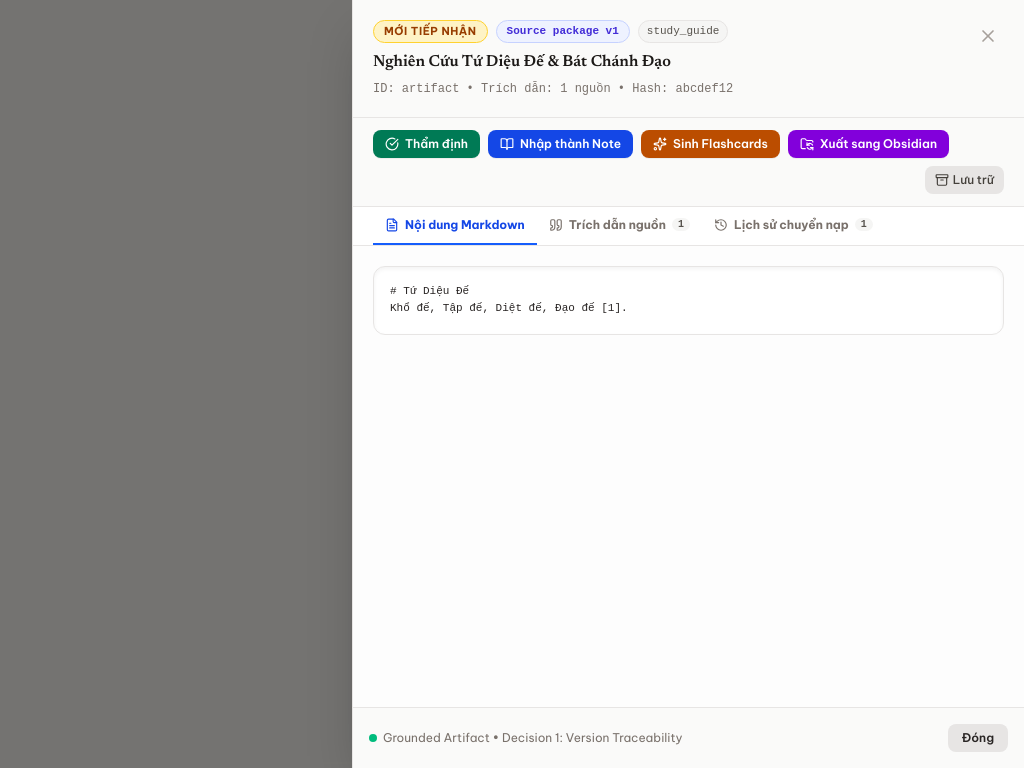
Test case: ArtifactReviewDrawer (Decision 1 & 2 Verification) › renders Decision 2 (Option B) Review Drawer tabs and actions
Expected: the button with test id "btn-validate-artifact" is shown, top-left (373, 130), bottom-right (480, 158)
Expected: the button with test id "btn-open-import-note" is shown, top-left (488, 130), bottom-right (633, 158)
Switch to Citations tab
Click the button "Trích dẫn nguồn 1". click: {"x": 619, "y": 226}
box: top-left (537, 206), bottom-right (702, 244)
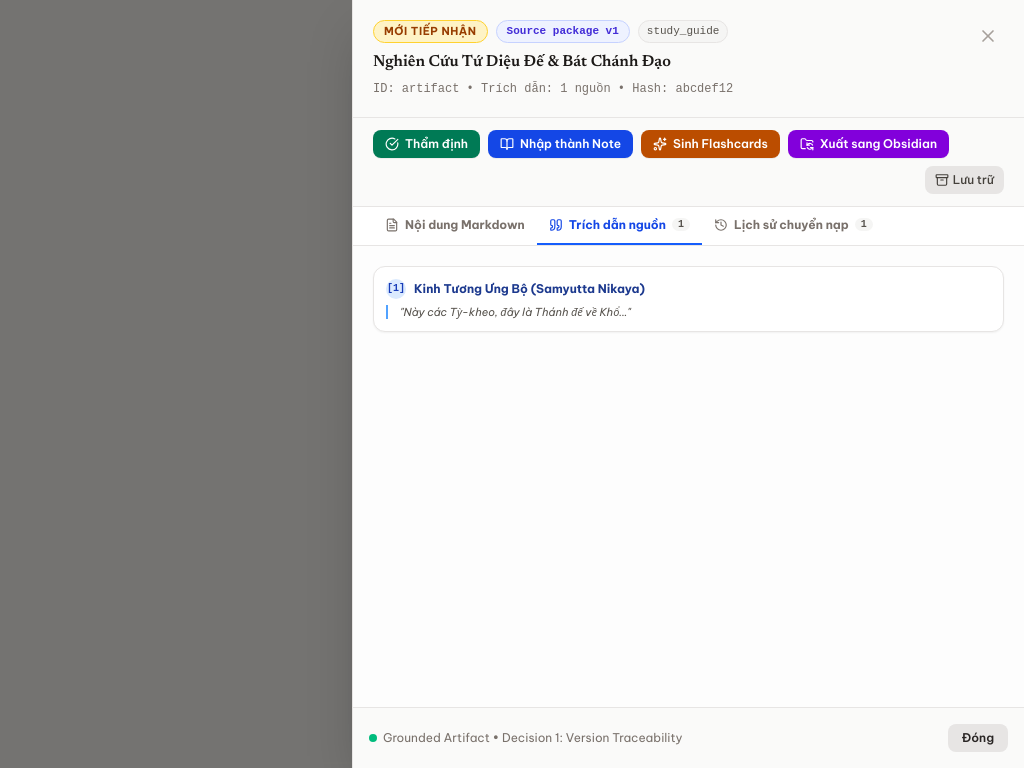
Now the text "Kinh Tương Ưng Bộ (Samyutta Nikaya)" is shown, box top-left (414, 280), bottom-right (645, 296)
Now the text "\"Này các Tỳ-kheo, đây là Thánh đế về Khổ...\"" is shown, box top-left (386, 304), bottom-right (991, 319)
Switch to Imports tab
Click the button "Lịch sử chuyển nạp 1". click: {"x": 793, "y": 226}
box: top-left (702, 206), bottom-right (885, 244)
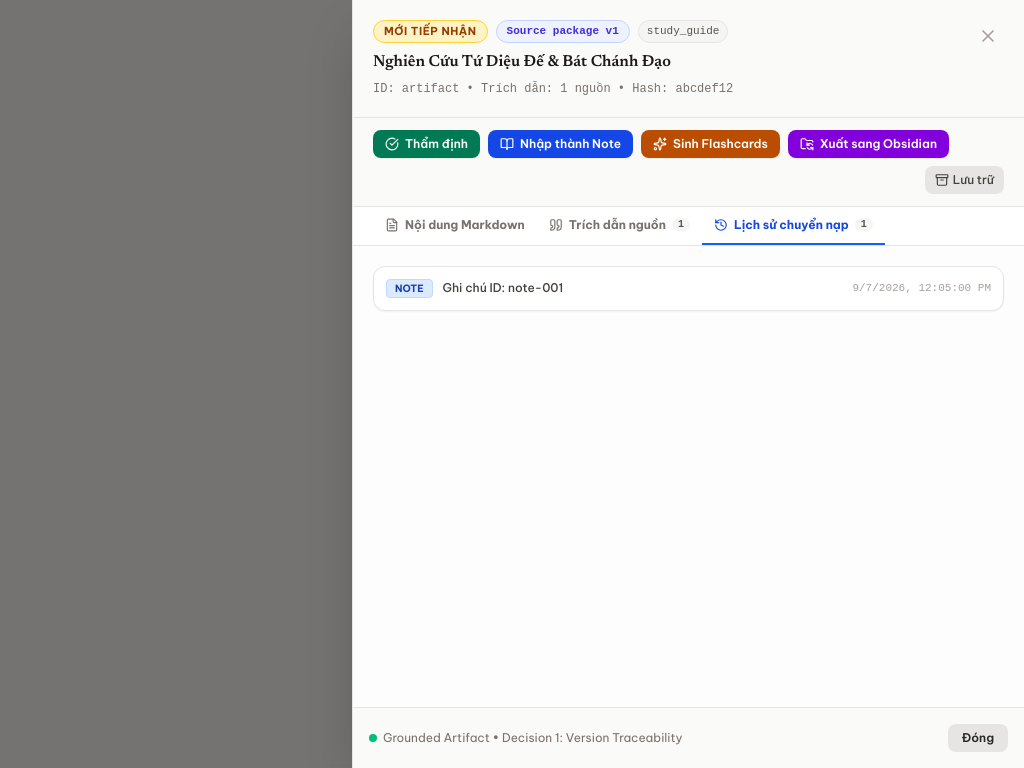
Now the text "Ghi chú ID: note-001" is shown, box top-left (443, 280), bottom-right (563, 296)
